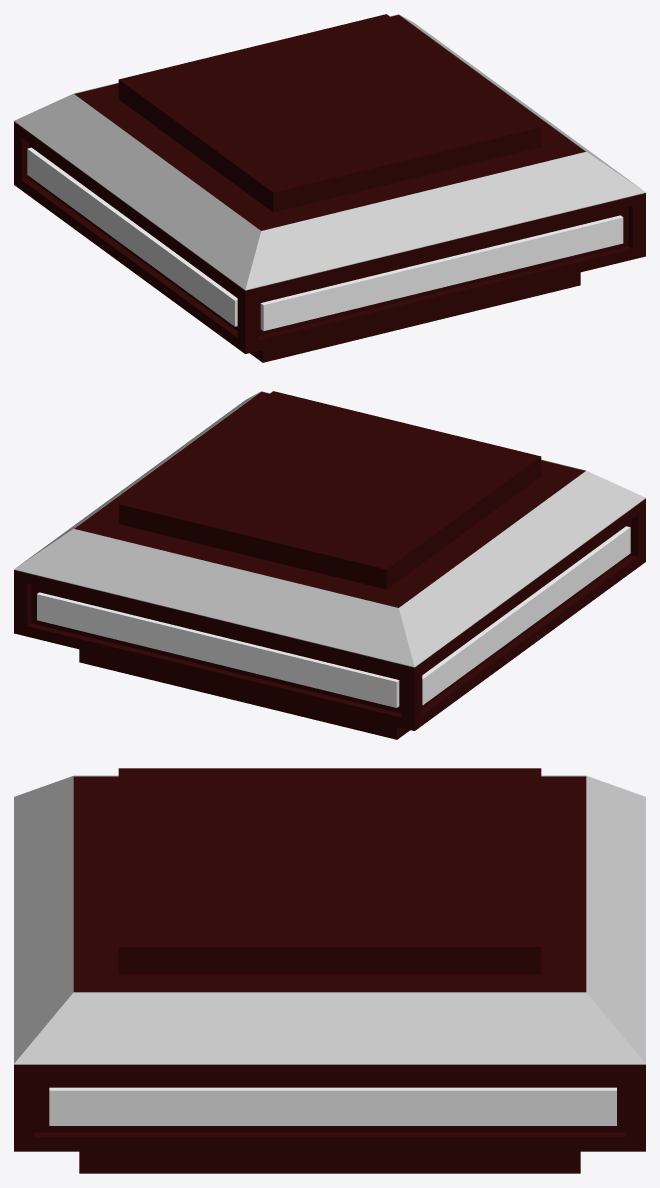
Rendered from MARSSTAND.fbx.
3 views of the same model, one above another, from view 1: azimuth 30°, elevation 25°; view 2: azimuth 150°, elevation 25°; view 3: azimuth 270°, elevation 25° (orthographic). The views are drawn at different scales.
Parts seen in each view (by area): view 1: TARIMA.TIERRA001, Line008, Line009, LUZ004, LUZ005, Line010; view 2: TARIMA.TIERRA001, Line011, Line009, LUZ007, LUZ005, Line010; view 3: TARIMA.TIERRA001, Line010, LUZ006, Line008, Line011.
Part boxes in pixels (box(x1,y1,x2,y2)): TARIMA.TIERRA001: box(14, 14, 645, 362); Line008: box(245, 151, 645, 290); Line009: box(14, 93, 260, 290); LUZ004: box(260, 215, 623, 331); LUZ005: box(27, 147, 237, 326); Line010: box(398, 14, 641, 189); TARIMA.TIERRA001: box(14, 391, 645, 739); Line011: box(14, 528, 414, 667); Line009: box(399, 470, 645, 667); LUZ007: box(37, 592, 399, 707); LUZ005: box(422, 526, 630, 705); Line010: box(18, 391, 261, 566); TARIMA.TIERRA001: box(14, 768, 645, 1173); Line010: box(14, 992, 645, 1064); LUZ006: box(49, 1087, 616, 1125); Line008: box(14, 776, 73, 1063); Line011: box(586, 776, 645, 1063).
Bounding box in the file's own units: 138 × 50.51 × 138.
